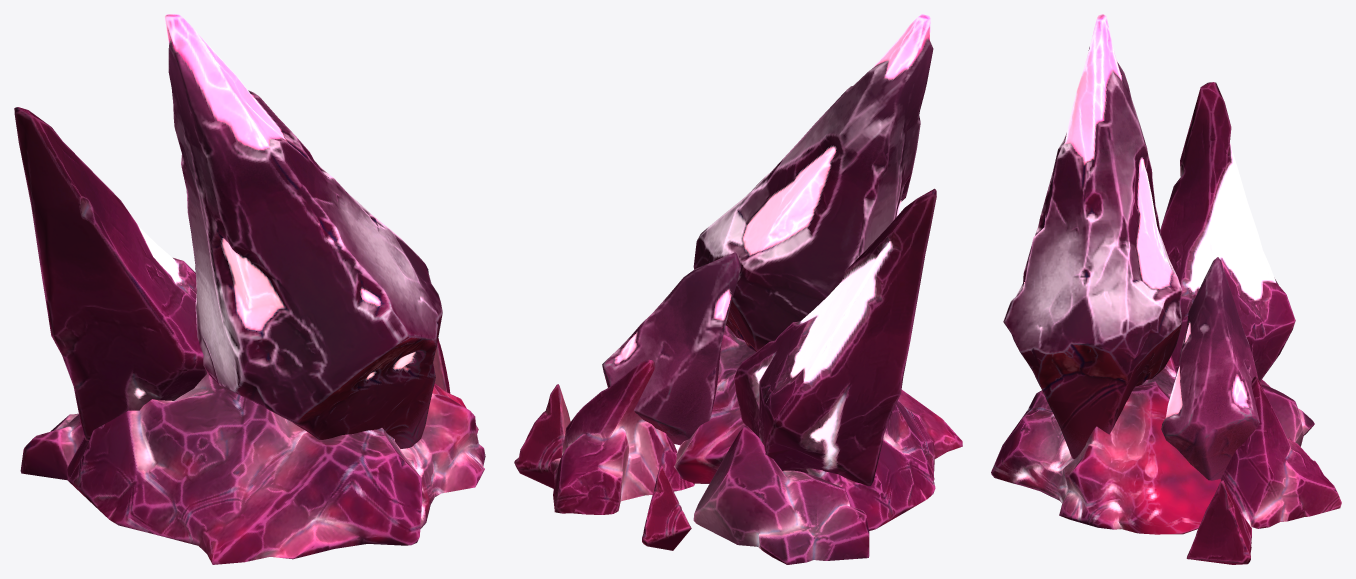
The model's file is TremorCrystal_B.fbx.
3 views of the same model, side by side, from view 1: azimuth 30°, elevation 25°; view 2: azimuth 150°, elevation 25°; view 3: azimuth 270°, elevation 25° (orthographic). The views are drawn at different scales.
Parts seen in each view (by area): view 1: Dn_HL_TremorCrystal_B.001; view 2: Dn_HL_TremorCrystal_B.001; view 3: Dn_HL_TremorCrystal_B.001.
Part boxes in pixels (left/top/right/bottom): Dn_HL_TremorCrystal_B.001: left=14, top=14, right=485, bottom=564; Dn_HL_TremorCrystal_B.001: left=514, top=14, right=962, bottom=564; Dn_HL_TremorCrystal_B.001: left=991, top=14, right=1341, bottom=564.
Size of the model in its own units: 5716 by 6666 by 4975.
Materials: 2 (2 with a texture image).
